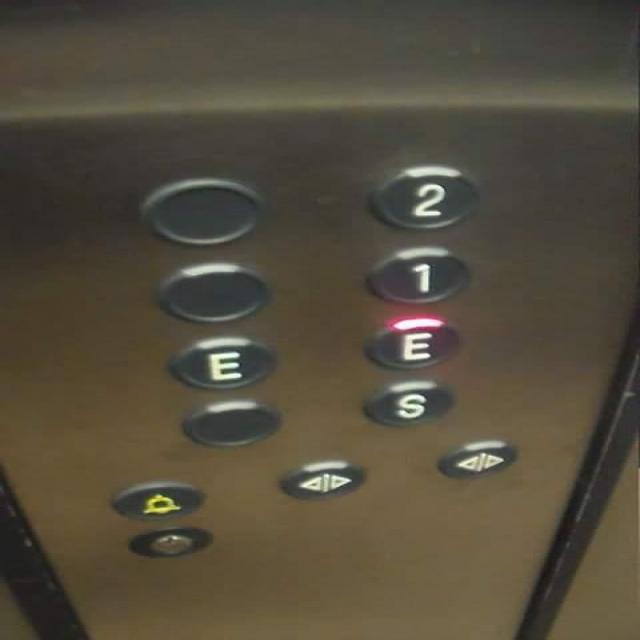1: (359, 242, 473, 308)
2: (361, 162, 483, 235)
E: (167, 334, 277, 395), (359, 314, 464, 373)
S: (358, 378, 454, 429)
alarm: (105, 480, 207, 522)
empty: (137, 173, 266, 248), (148, 259, 275, 326), (173, 400, 287, 450)
keyhole: (120, 524, 217, 560)
open: (273, 457, 371, 501), (433, 438, 523, 482)
